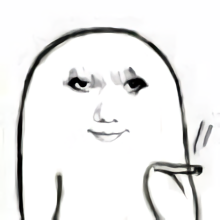dragon: (64, 68, 150, 142)
